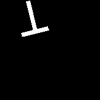half_double_crochet: (21, 1, 48, 35)
